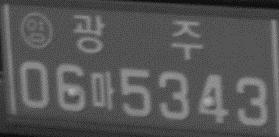0: (17, 59, 50, 110)
3: (156, 70, 191, 121), (234, 76, 268, 127)
4: (197, 74, 229, 124)
5: (118, 67, 152, 118)
6: (54, 63, 86, 112)
광주_D: (72, 13, 205, 60)
마: (88, 70, 116, 111)
영: (18, 11, 54, 48)
